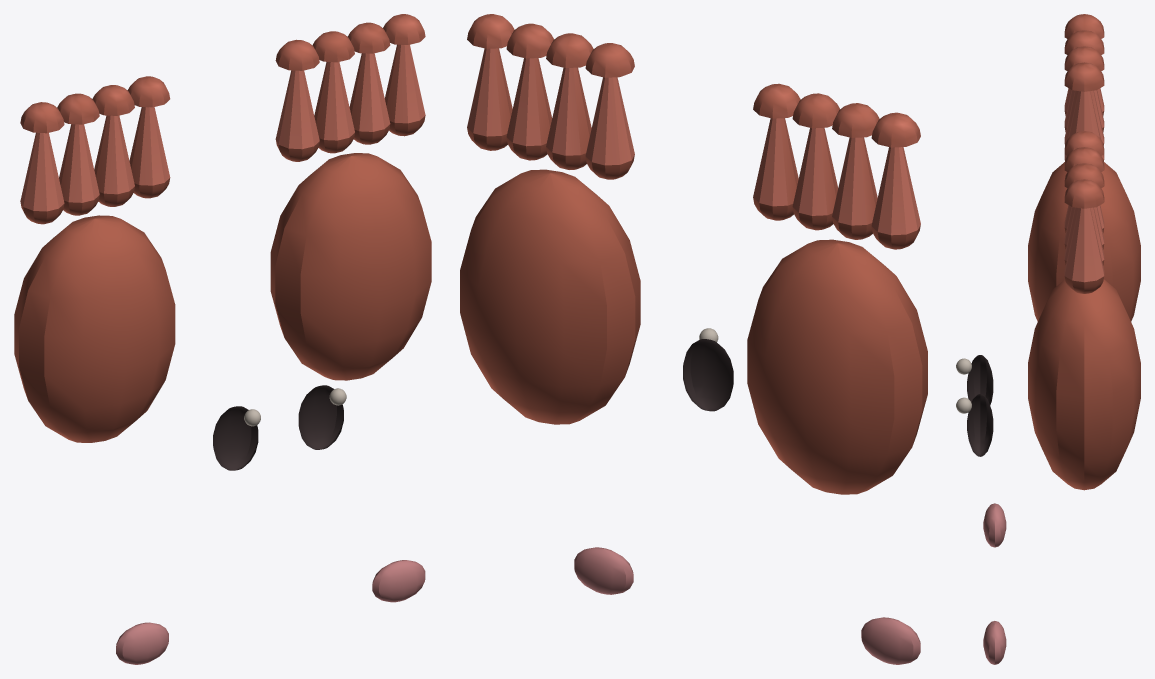
3 renders of one model, left to right at view 1: azimuth 30°, elevation 25°; view 2: azimuth 150°, elevation 25°; view 3: azimuth 270°, elevation 25°, orthographic. The views are drawn at different scales.
Visible parts, largest first — view 1: pet_p515cd8f1; view 2: pet_p515cd8f1; view 3: pet_p515cd8f1.
Boxes of the visible parts, <box> form: pet_p515cd8f1: <box>14,14,431,664</box>; pet_p515cd8f1: <box>460,14,927,664</box>; pet_p515cd8f1: <box>956,14,1140,664</box>.
Bounding box in the file's own units: 0.3818 × 0.4806 × 0.1596.
